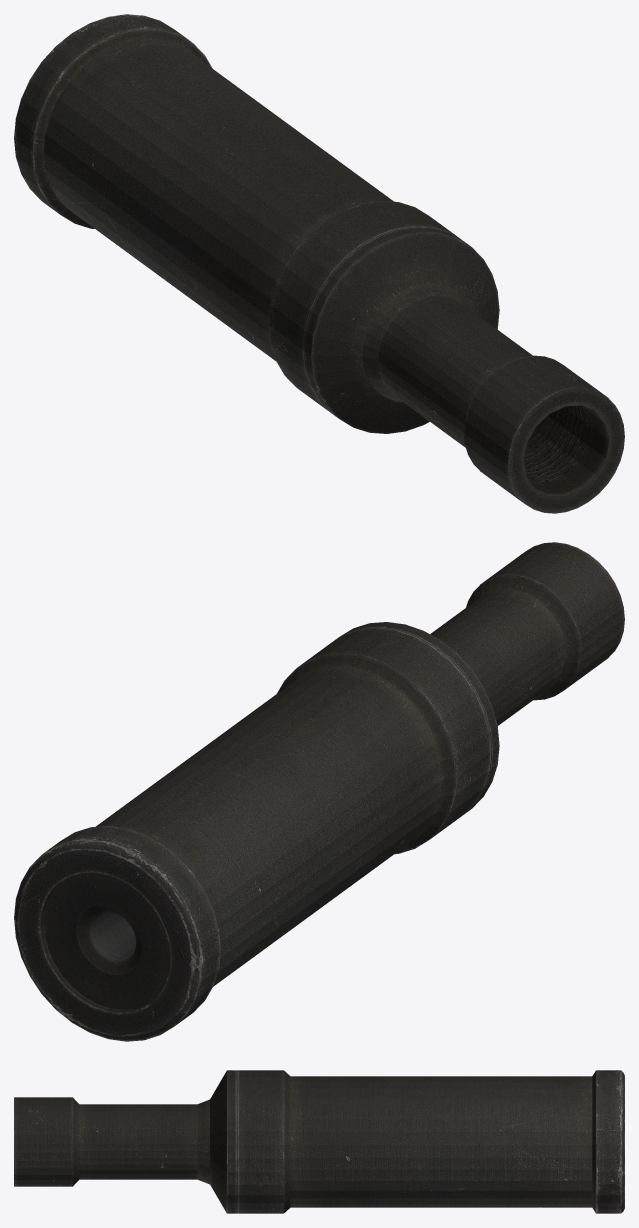
3 renders of one model, top to bottom at view 1: azimuth 30°, elevation 25°; view 2: azimuth 150°, elevation 25°; view 3: azimuth 270°, elevation 25°, orthographic. The views are drawn at different scales.
Visible parts, largest first — view 1: TW_5caf187cae92157c28402e43_PZ_Import; view 2: TW_5caf187cae92157c28402e43_PZ_Import; view 3: TW_5caf187cae92157c28402e43_PZ_Import.
Boxes of the visible parts, x1,y1,x2,y2 form: TW_5caf187cae92157c28402e43_PZ_Import: (14,14,624,513); TW_5caf187cae92157c28402e43_PZ_Import: (14,542,624,1041); TW_5caf187cae92157c28402e43_PZ_Import: (14,1070,624,1213).
Bounding box in the file's own units: 0.0331 × 0.1405 × 0.0331.
Materials: 1 (1 with a texture image).
